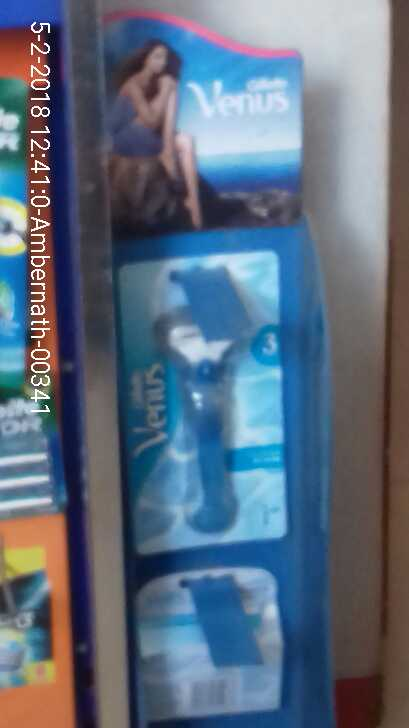venus: (139, 281, 285, 545), (141, 580, 286, 719)
